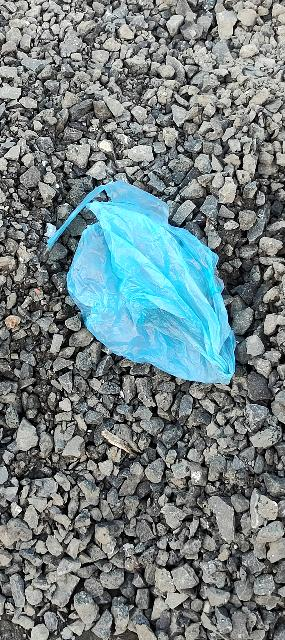polythene: (24, 165, 274, 408)
